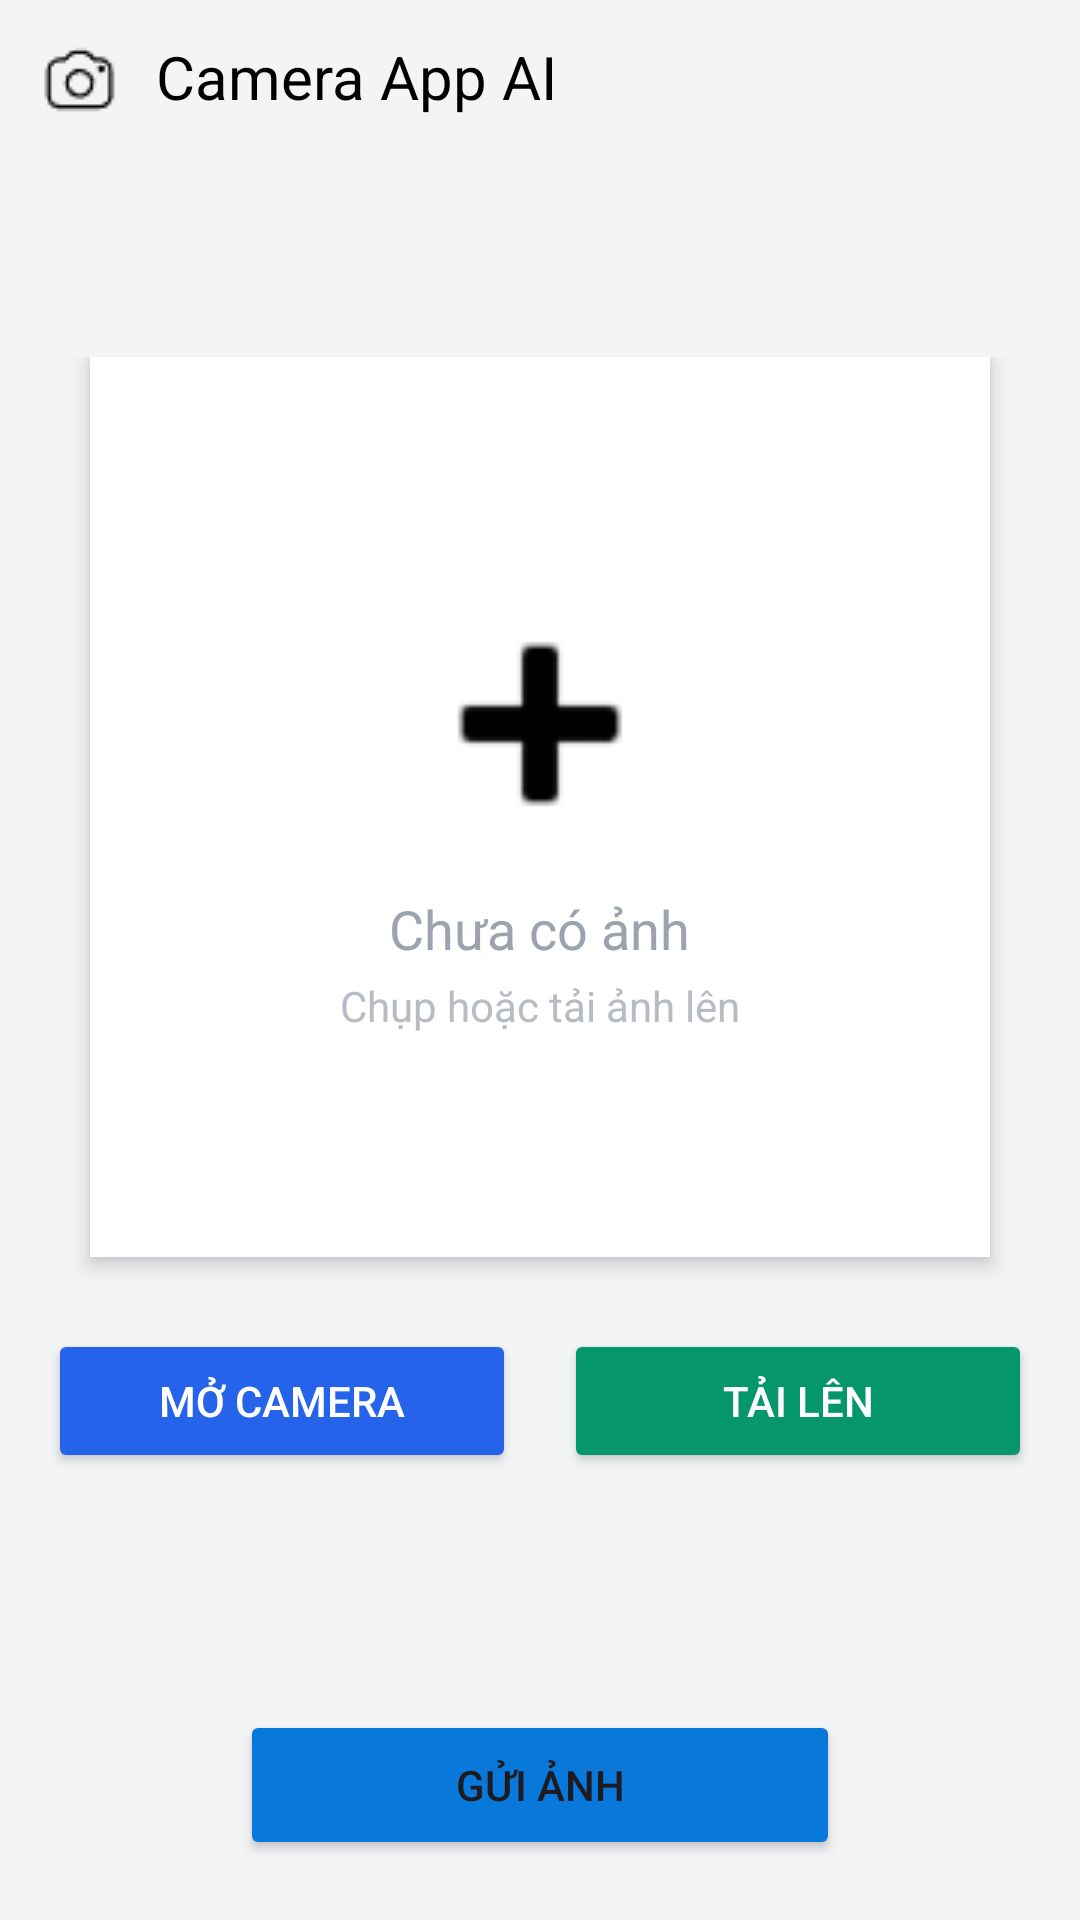

Icon bounding boxes for this 1080px x 1920px phone screenshot, format (x1, y1, x2, y2):
add: (458, 642, 622, 806)
cameraalt: (44, 49, 115, 111)
